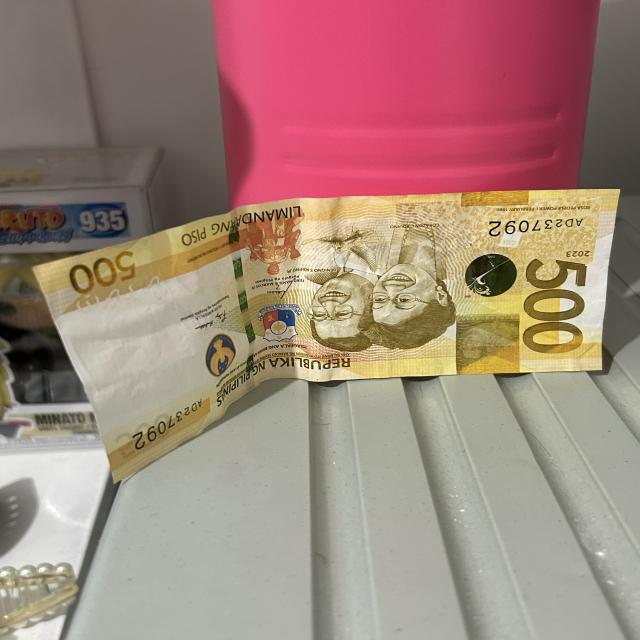concealed_value: (456, 320, 517, 371)
optically_variable_device: (456, 253, 521, 299)
security_thread: (224, 222, 276, 376)
see_through_mark: (68, 278, 175, 308)
serial_number: (124, 400, 213, 449), (480, 215, 596, 239)
value: (521, 257, 592, 356)
